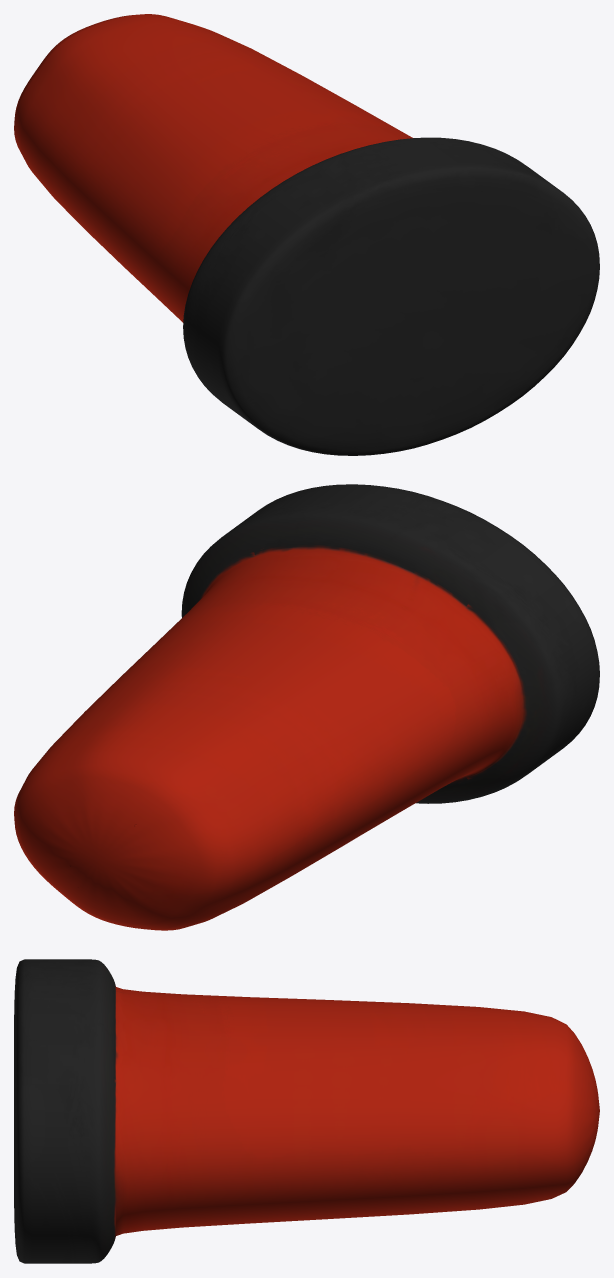
Rendered from alarma.obj.
3 renders of one model, top to bottom at view 1: azimuth 30°, elevation 25°; view 2: azimuth 150°, elevation 25°; view 3: azimuth 270°, elevation 25°, orthographic. The views are drawn at different scales.
Visible parts, largest first — view 1: alarma:pCylinder1; view 2: alarma:pCylinder1; view 3: alarma:pCylinder1.
Boxes of the visible parts, x1,y1,x2,y2 form: alarma:pCylinder1: [14, 14, 599, 455]; alarma:pCylinder1: [14, 484, 599, 930]; alarma:pCylinder1: [14, 959, 599, 1263].
Size of the model in its own units: 0.4744 by 0.3298 by 0.6929.
Materials: 1 (1 with a texture image).
